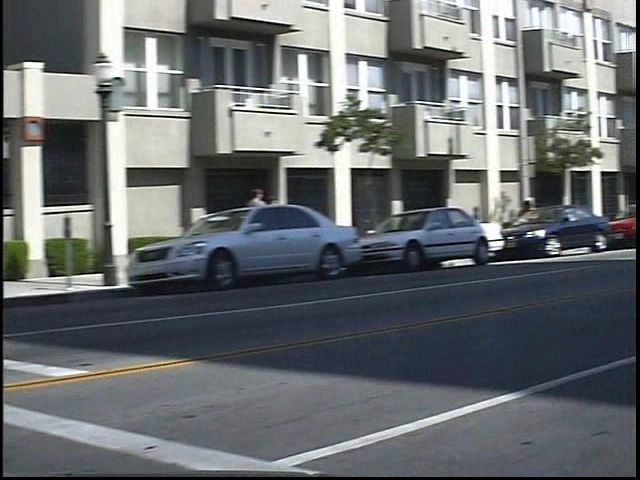person: (259, 183, 283, 265), (279, 191, 298, 255)
